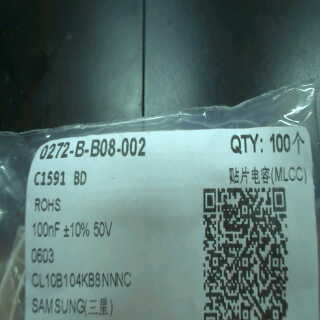100nF: (29, 218, 62, 243)
